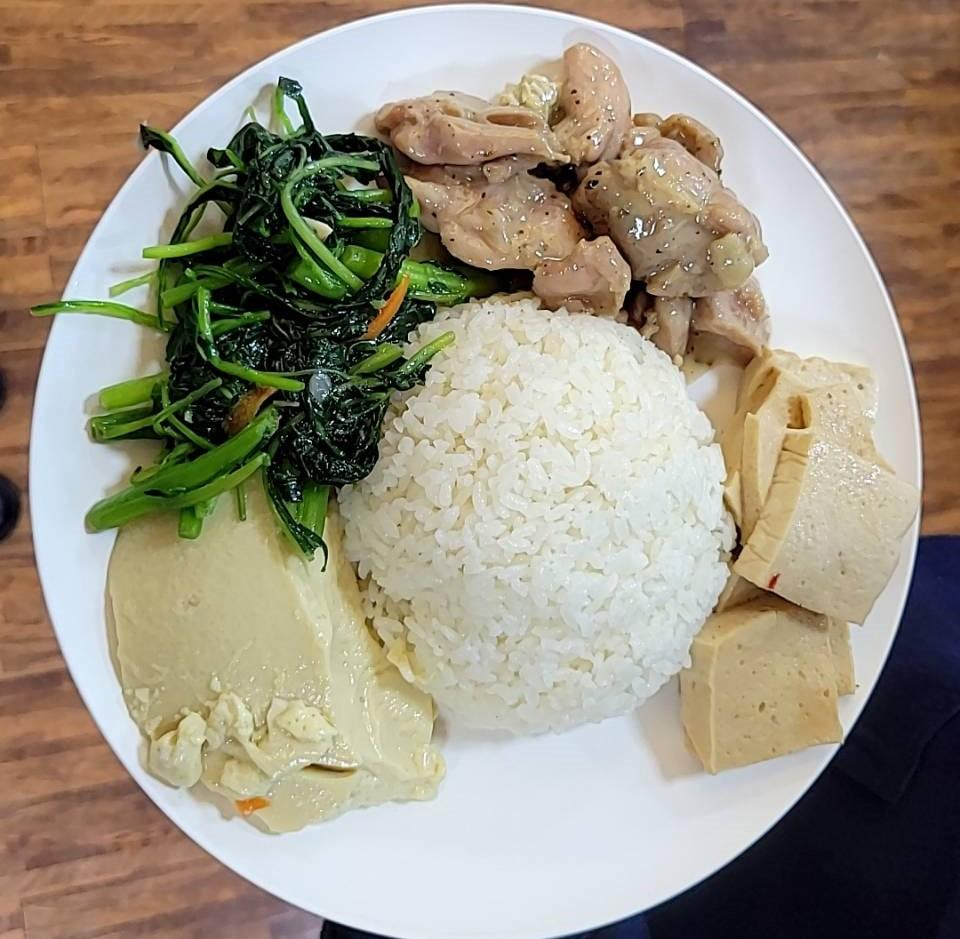big fried chicken leg: (18, 6, 932, 926)
big herbal chicken leg: (345, 295, 748, 739)
braised fish fillet: (83, 120, 410, 533), (98, 448, 444, 824), (671, 348, 906, 776)
braised pork: (390, 34, 775, 355)
